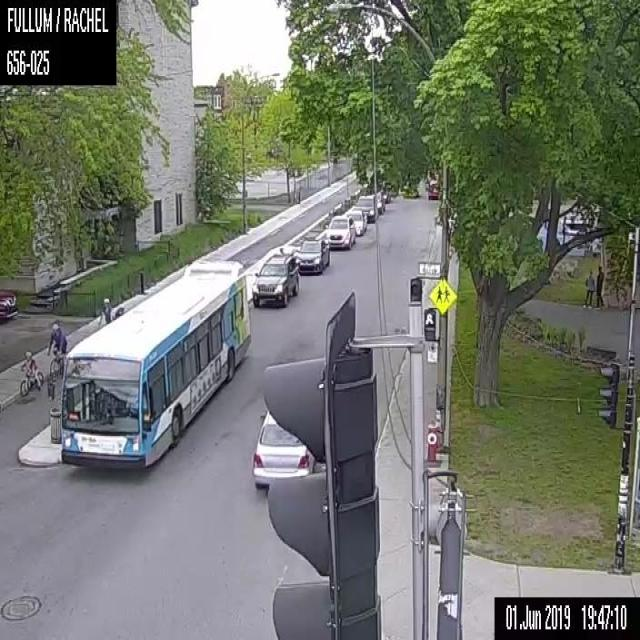bus: (60, 258, 251, 470)
cyclist: (46, 319, 67, 379), (19, 351, 43, 393), (98, 295, 114, 325)
pedestrian: (582, 269, 595, 308), (594, 264, 604, 308)
vehicle: (253, 408, 315, 487), (252, 253, 298, 306), (297, 238, 329, 272), (325, 214, 355, 248), (353, 194, 377, 223), (345, 209, 366, 235), (0, 289, 16, 318), (425, 180, 439, 199), (375, 192, 385, 213), (381, 190, 390, 201)
